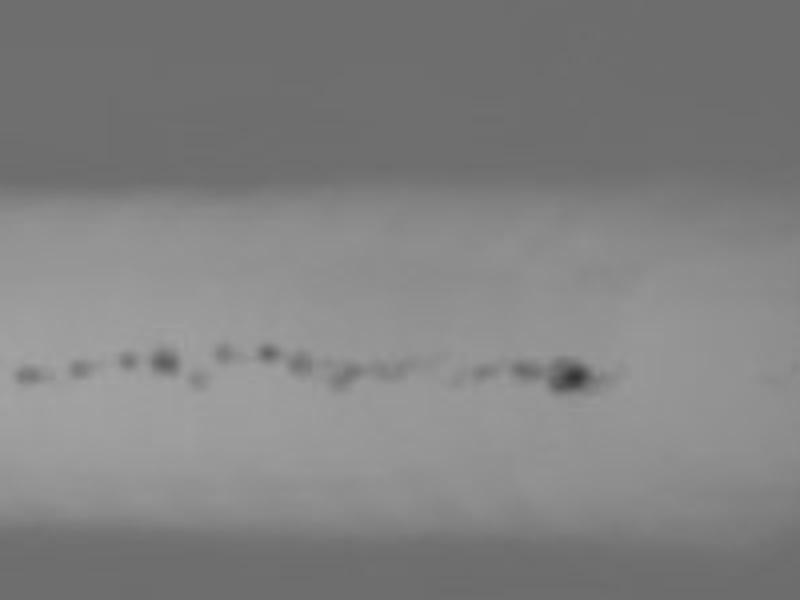defect: (545, 356, 591, 393), (321, 360, 357, 393), (366, 360, 407, 385), (149, 348, 180, 378), (285, 353, 313, 380), (510, 357, 539, 380), (13, 365, 47, 384), (68, 358, 97, 379), (113, 350, 139, 373), (213, 340, 236, 362), (472, 363, 499, 381), (190, 365, 210, 389), (258, 345, 282, 364)
